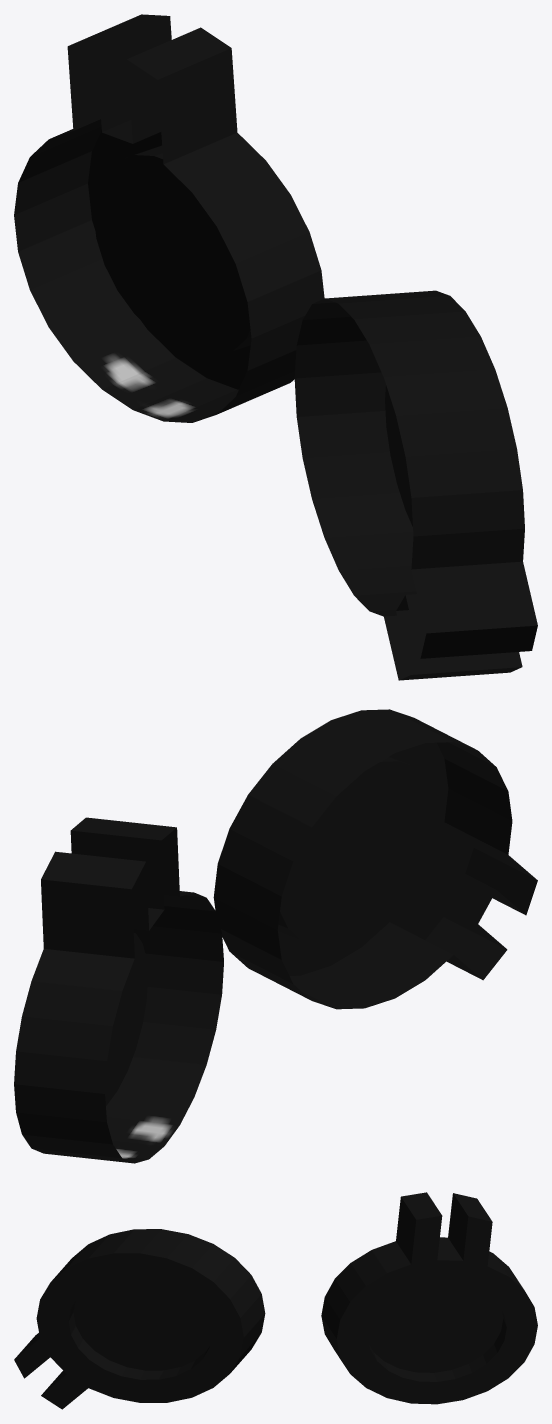
File: AM_Eyes_Taon.fbx
The picture shows the model from 3 angles, top to bottom: view 1: azimuth 30°, elevation 25°; view 2: azimuth 150°, elevation 25°; view 3: azimuth 270°, elevation 25°; orthographic projection. The views are drawn at different scales.
Visible parts, largest first — view 1: Eyes_Taon; view 2: Eyes_Taon; view 3: Eyes_Taon.
Boxes of the visible parts, x1,y1,x2,y2 form: Eyes_Taon: (14,14,537,680); Eyes_Taon: (14,709,537,1163); Eyes_Taon: (14,1192,537,1409).
Size of the model in its own units: 12.54 by 25.57 by 59.25.
